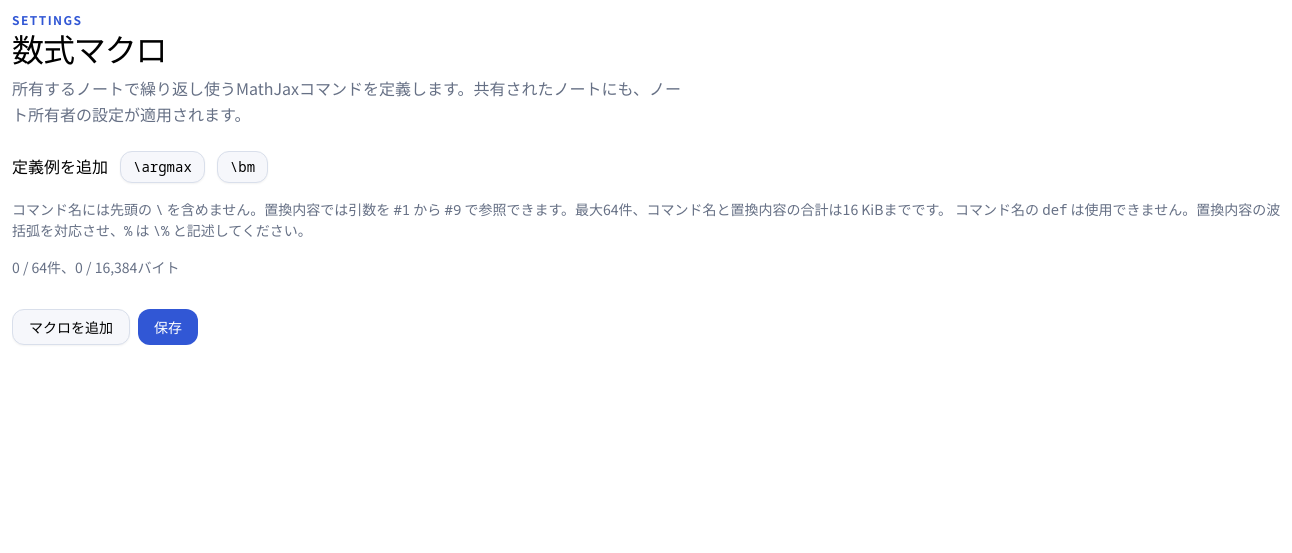
現在のrevisionと編集内容を保存し、保存後のrevisionを採用する
This screenshot has width=1292, height=553.
Click the button "\\argmax" at (162, 167), box [120, 151, 205, 183]
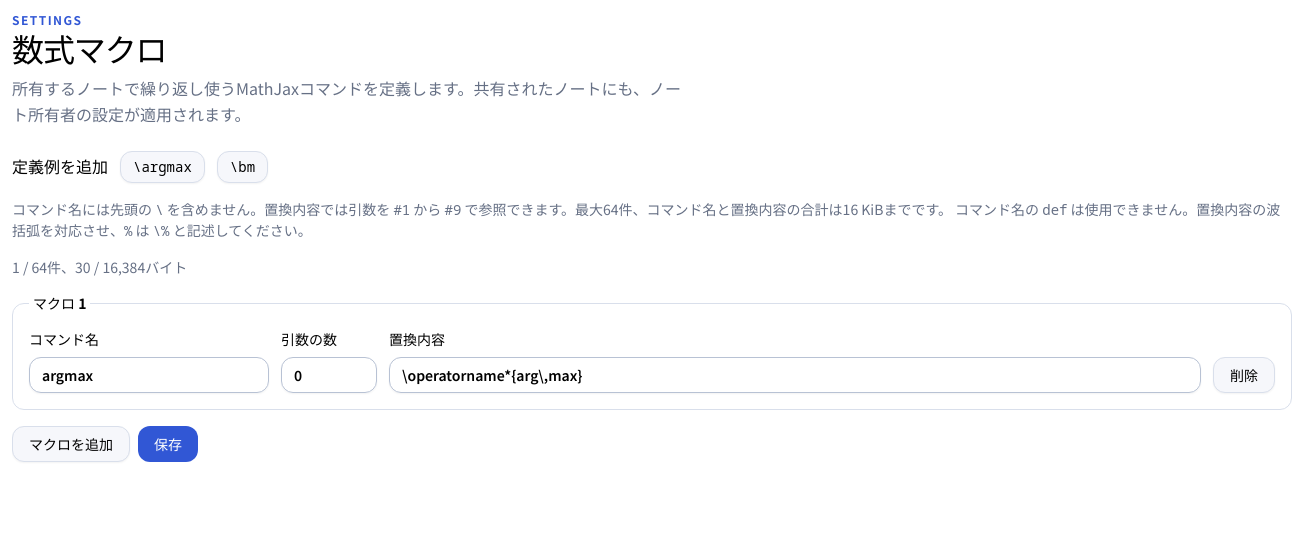
Replace the text in the field labelled "置換内容" with "result" at (795, 375), box [389, 357, 1201, 393]
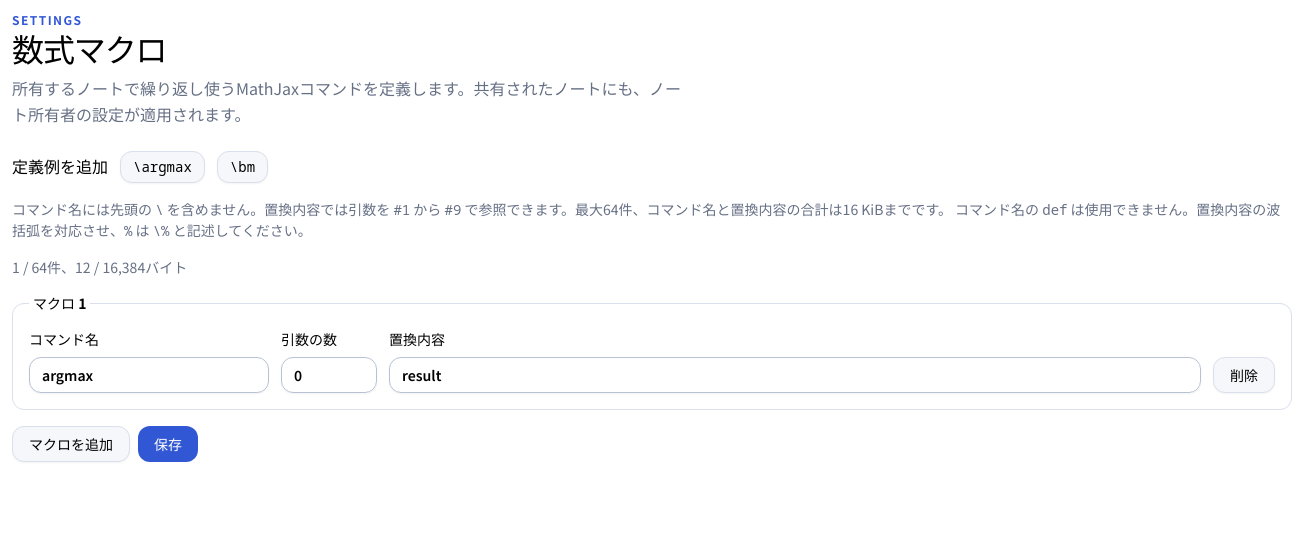
Click the button "保存" at (168, 444), box [138, 426, 198, 462]
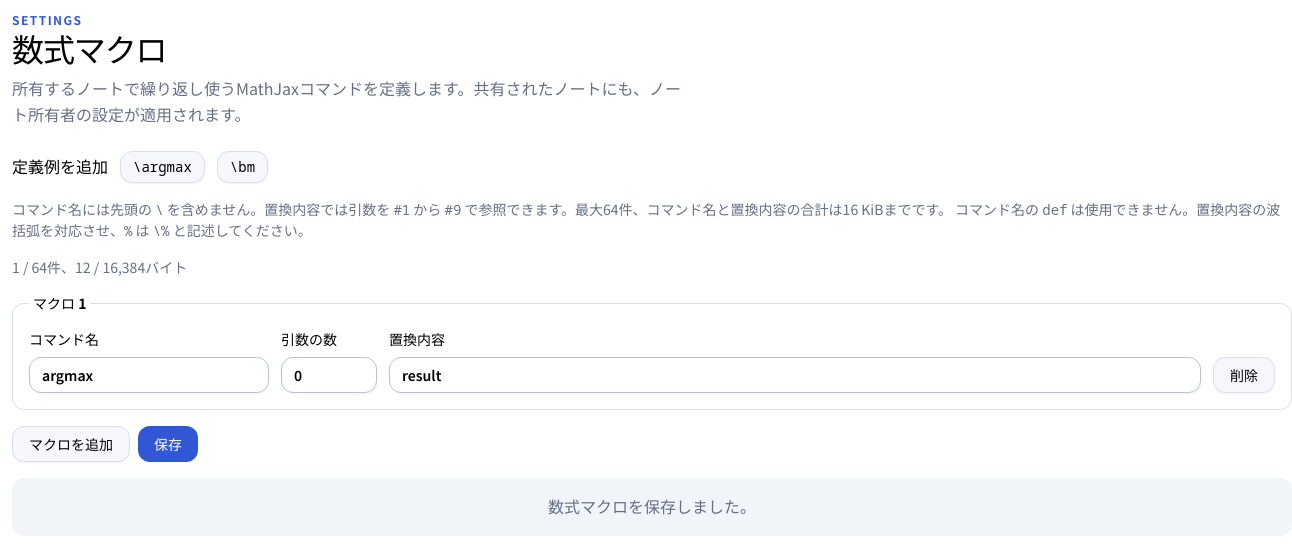
Expected: the text "数式マクロを保存しました。" is shown, [12, 478, 1291, 536]
